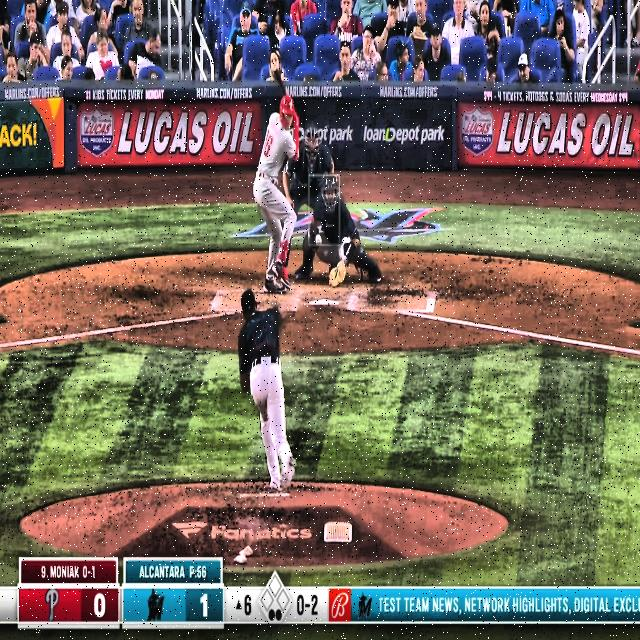baseball: (314, 233, 323, 246)
